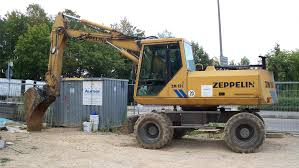excavator: (21, 13, 279, 156)
